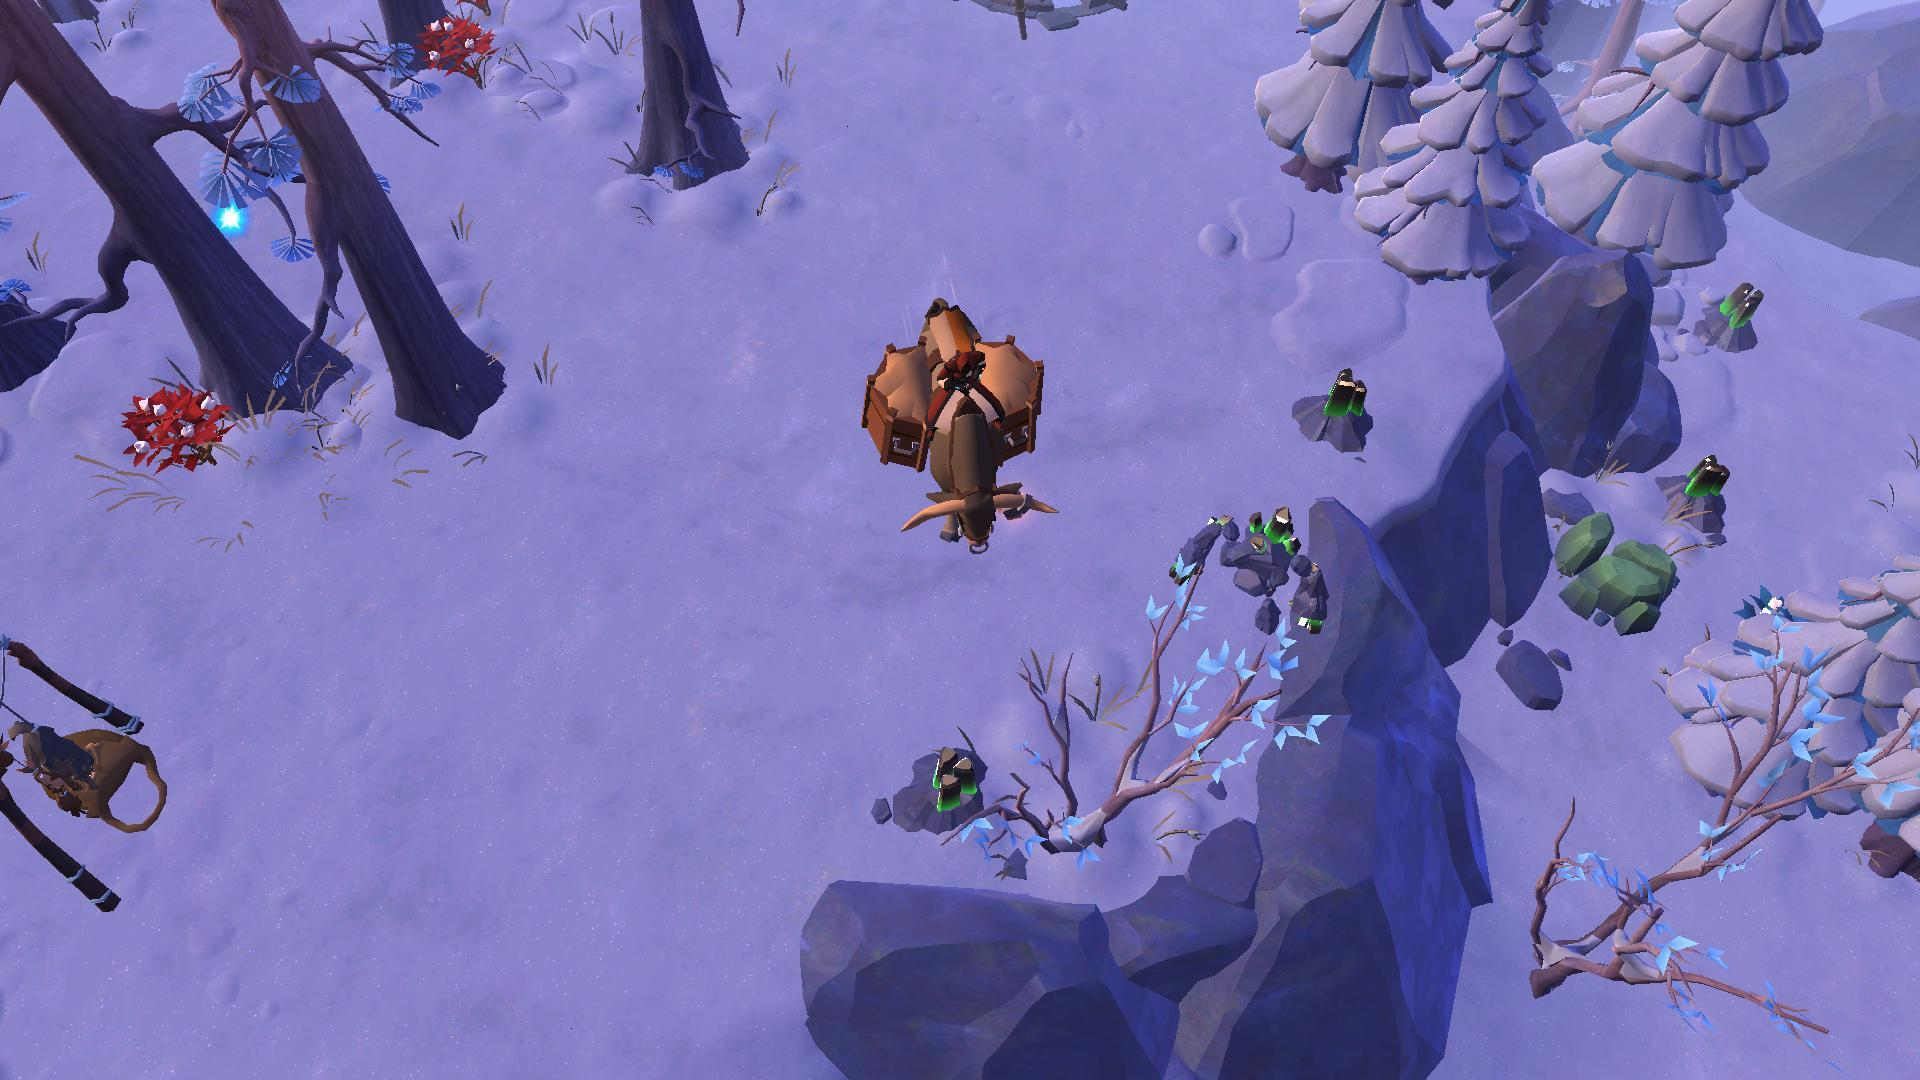fiber_t5: (124, 385, 228, 476), (417, 18, 501, 92)
ore_t3: (920, 741, 975, 814), (1712, 274, 1764, 334), (1683, 446, 1733, 506), (1313, 368, 1367, 423)
rock_t3: (1543, 508, 1683, 632)
